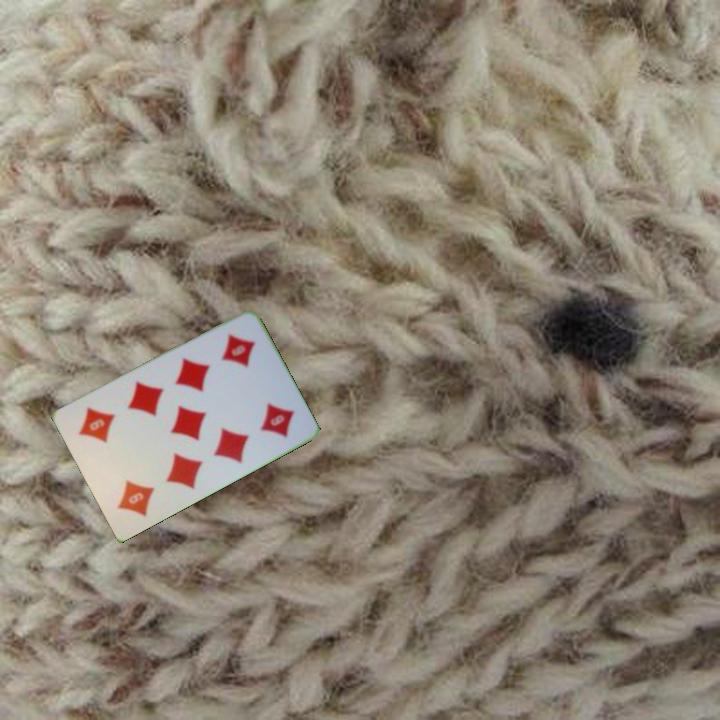d_9.png: (198, 318, 279, 403), (92, 445, 173, 529)
